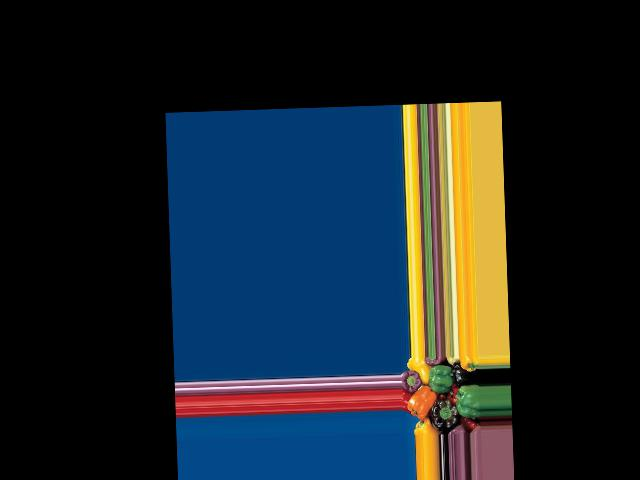bell_pepper: (458, 385, 481, 419)
